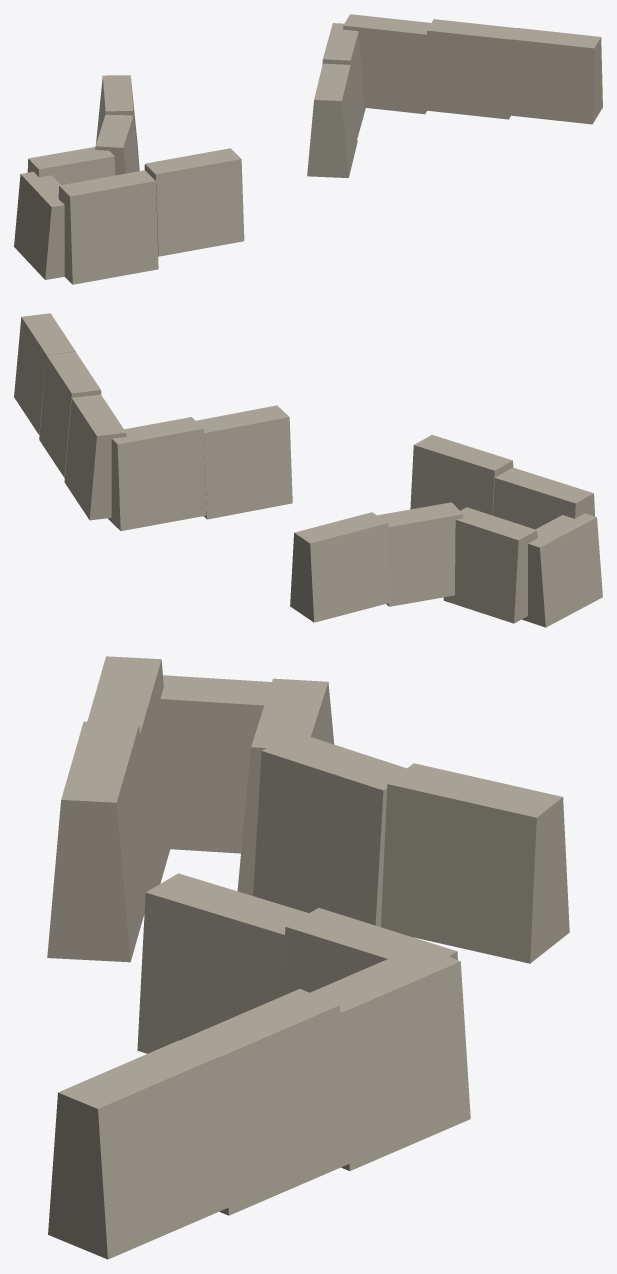
File: kalkara_64_20_far.glb
3 renders of one model, top to bottom at view 1: azimuth 30°, elevation 25°; view 2: azimuth 150°, elevation 25°; view 3: azimuth 270°, elevation 25°, orthographic. The views are drawn at different scales.
Parts seen in each view (by area): view 1: geometry_0; view 2: geometry_0; view 3: geometry_0.
Boxes of the visible parts, x1,y1,x2,y2 form: geometry_0: (14, 14, 602, 284); geometry_0: (14, 313, 602, 627); geometry_0: (47, 656, 569, 1259).
Bounding box in the file's own units: 90.75 × 18.53 × 37.33.
